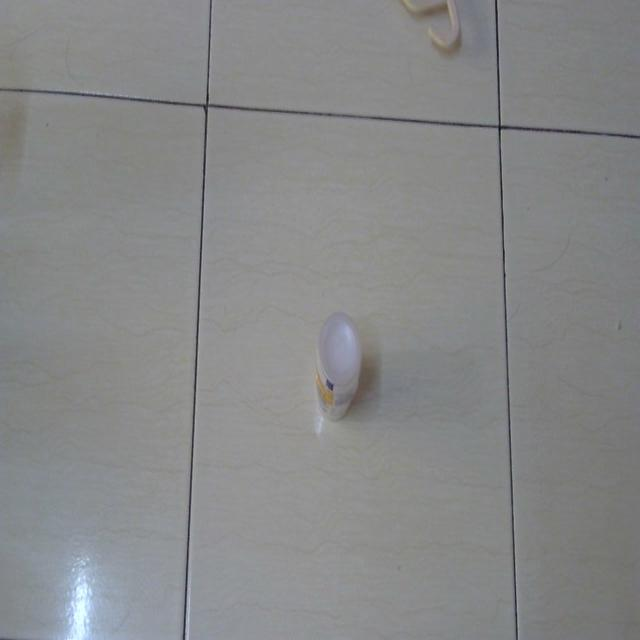plastic_standrotation: (313, 306, 366, 429)
